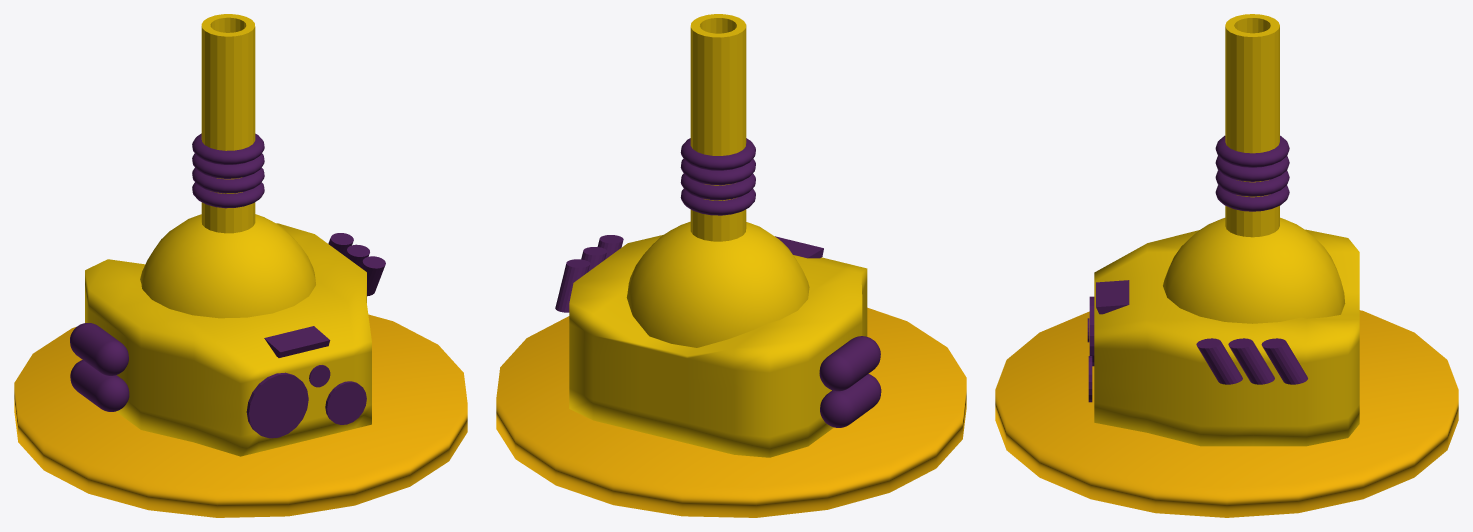
File: Cannon3.fbx
3 renders of one model, left to right at view 1: azimuth 30°, elevation 25°; view 2: azimuth 150°, elevation 25°; view 3: azimuth 270°, elevation 25°, orthographic. The views are drawn at different scales.
Parts seen in each view (by area): view 1: pCylinder12, pCube2, pSphere3, pCylinder5, pCylinder9, pSphere5, pSphere4, pCylinder11, pCube3, pTorus6, pTorus4, pTorus3 (+2 smaller); view 2: pCylinder12, pCube2, pSphere3, pCylinder5, pSphere5, pSphere4, pTorus6, pTorus3, pTorus4, pTorus5, pCylinder8, pCube3; view 3: pCylinder12, pCube2, pSphere3, pCylinder5, pTorus6, pCylinder7, pCylinder6, pCylinder8, pTorus3, pTorus4, pTorus5, pCube3.
Boxes of the visible parts, x1,y1,x2,y2 form: pCylinder12: [14, 314, 467, 517]; pCube2: [85, 223, 371, 456]; pSphere3: [140, 214, 315, 318]; pCylinder5: [201, 14, 255, 233]; pCylinder9: [246, 372, 308, 438]; pSphere5: [70, 323, 128, 375]; pSphere4: [70, 360, 129, 411]; pCylinder11: [325, 381, 366, 424]; pCube3: [264, 326, 330, 357]; pTorus6: [192, 133, 264, 164]; pTorus4: [192, 167, 264, 193]; pTorus3: [192, 182, 264, 208]; pCylinder12: [496, 307, 966, 517]; pCube2: [569, 235, 867, 457]; pSphere3: [626, 221, 809, 347]; pCylinder5: [690, 14, 746, 241]; pSphere5: [819, 336, 880, 391]; pSphere4: [820, 374, 881, 427]; pTorus6: [680, 138, 755, 170]; pTorus3: [680, 189, 755, 215]; pTorus4: [680, 173, 755, 200]; pTorus5: [680, 158, 755, 185]; pCylinder8: [555, 259, 590, 312]; pCube3: [775, 236, 823, 258]; pCylinder12: [995, 310, 1458, 517]; pCube2: [1094, 229, 1359, 446]; pSphere3: [1163, 217, 1345, 323]; pCylinder5: [1225, 14, 1279, 237]; pTorus6: [1215, 135, 1289, 167]; pCylinder7: [1228, 338, 1274, 384]; pCylinder6: [1196, 338, 1242, 384]; pCylinder8: [1261, 338, 1307, 384]; pTorus3: [1215, 185, 1289, 211]; pTorus4: [1215, 170, 1289, 196]; pTorus5: [1215, 156, 1289, 181]; pCube3: [1096, 280, 1129, 314].
Bounding box in the file's own units: 1.75 × 1.64 × 1.75.
